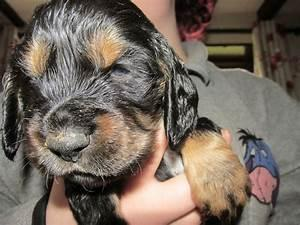dog: (0, 0, 252, 224)
